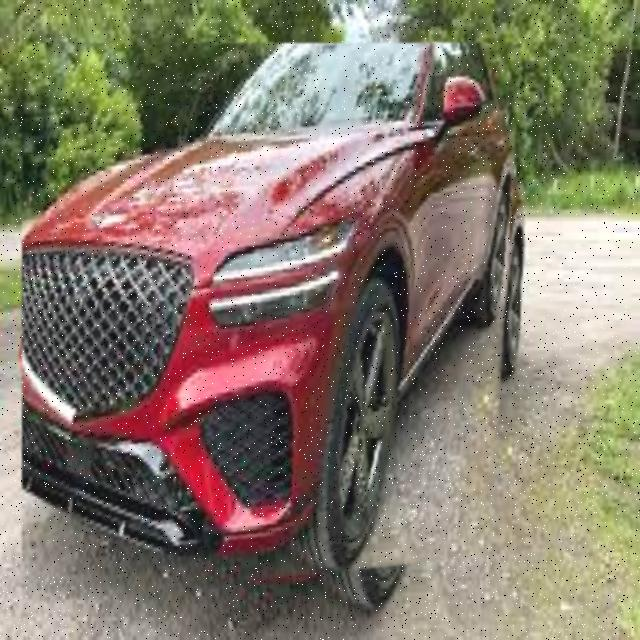car: (23, 45, 525, 611)
